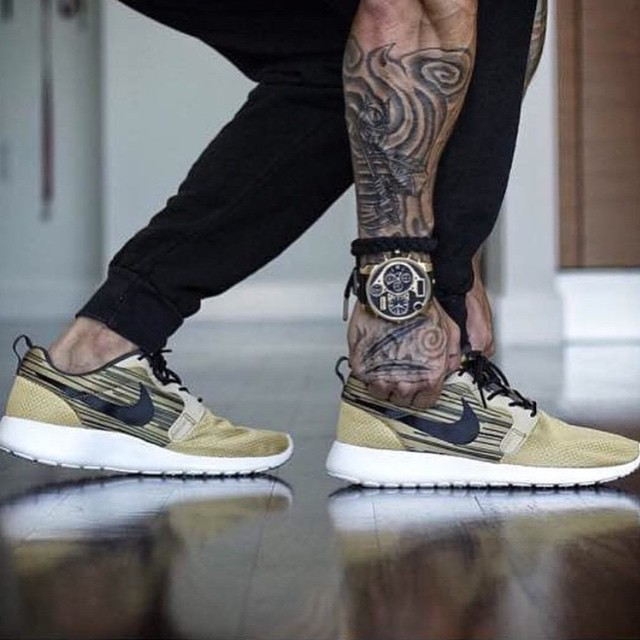sneaker: (307, 333, 640, 512), (1, 303, 306, 497)
